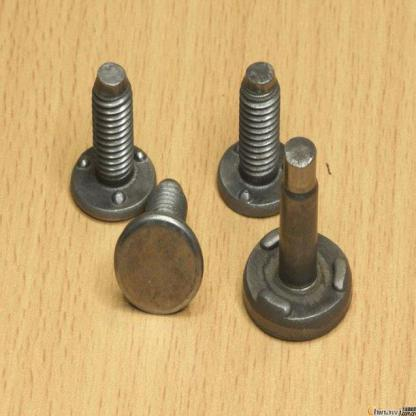FOD: (244, 134, 354, 344), (67, 60, 156, 217), (111, 174, 205, 315), (214, 58, 297, 216)
